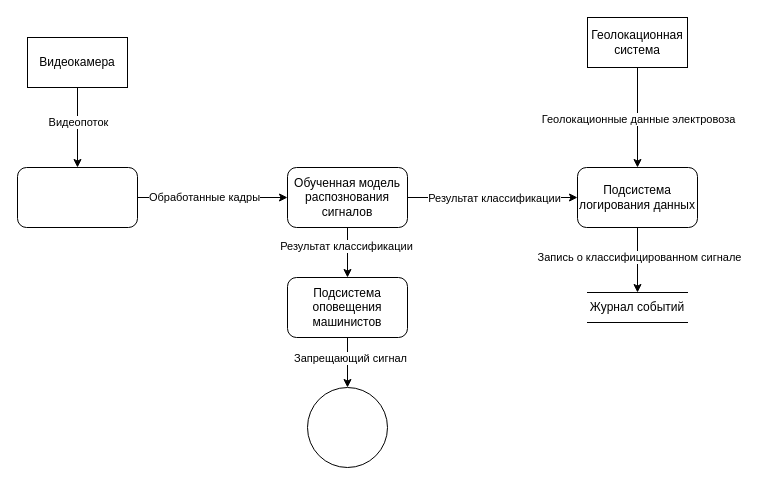
The diagram is 758 pixels wide and 485 high, and some of its shapes have lost their labels. The centre of each missing label's shape, as x and y in pixels:
Звуковое и визуальное оповещение: pixel 347 427
Подсистема обработки видеопотока: pixel 77 197
